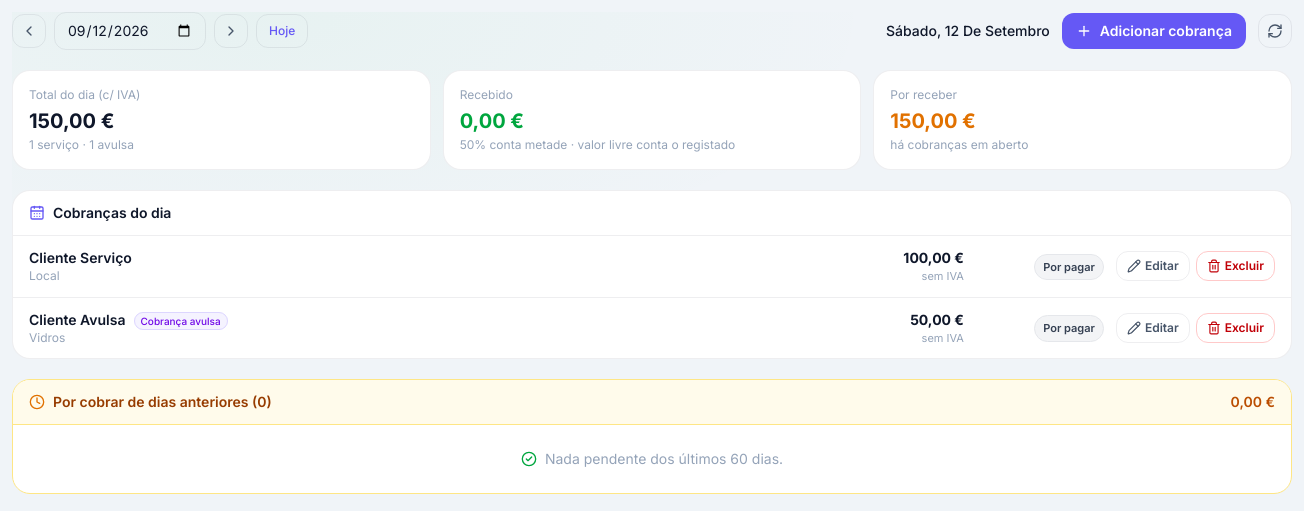
Test: corridas › mudar de dia não deixa as linhas do dia anterior acionáveis
The image size is (1304, 511).
Click the button named "Dia seguinte": (231, 31) x1=214 y1=14 x2=248 y2=48
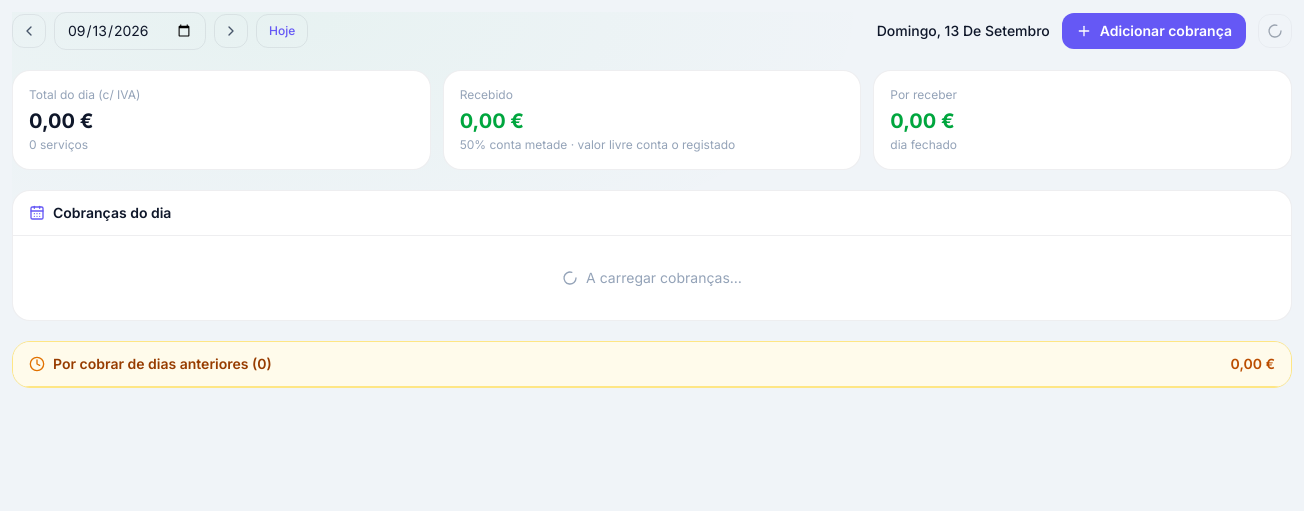
Now the text "A carregar cobranças" is shown, box x1=586 y1=269 x2=742 y2=286
